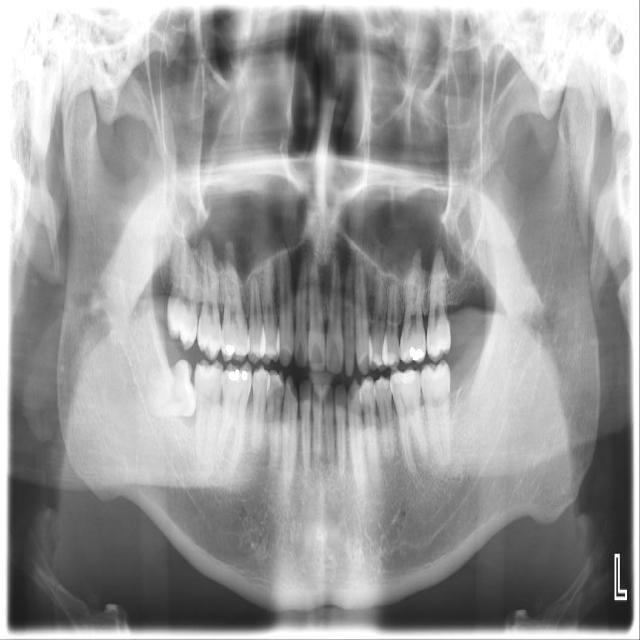Filling: (409, 347, 425, 361), (230, 370, 239, 380), (226, 344, 234, 355), (241, 371, 247, 380)
impacted tooth: (143, 361, 196, 417)
